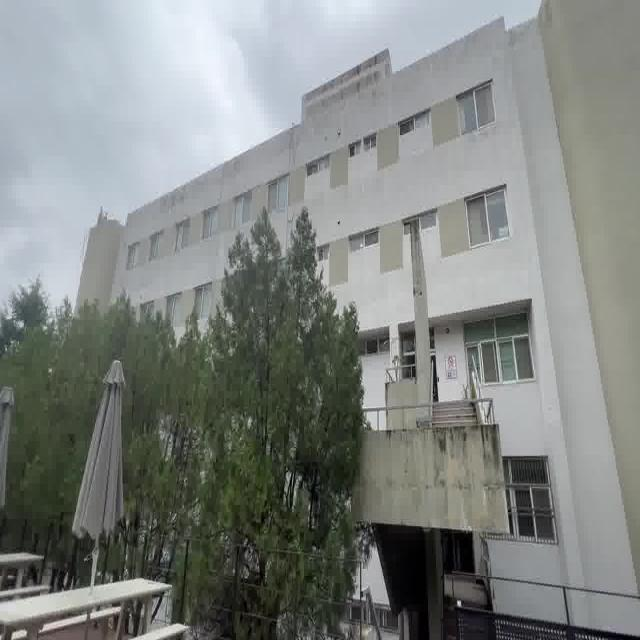building: (361, 48, 625, 575)
